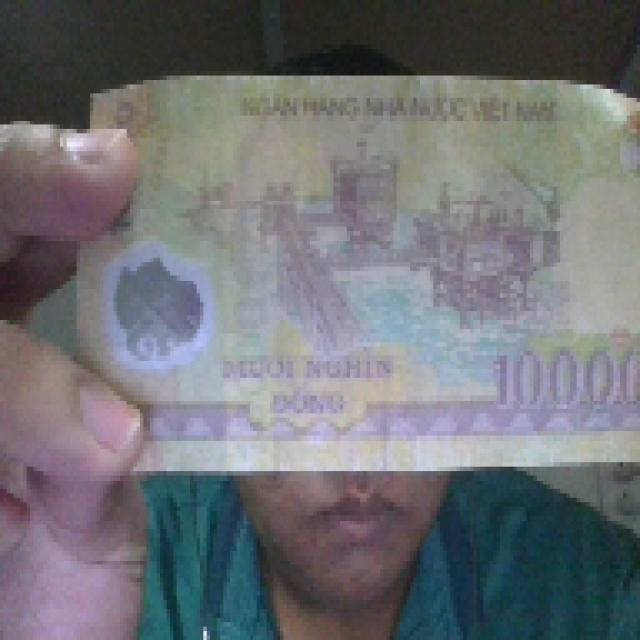10 000 VND: (66, 67, 636, 476)
